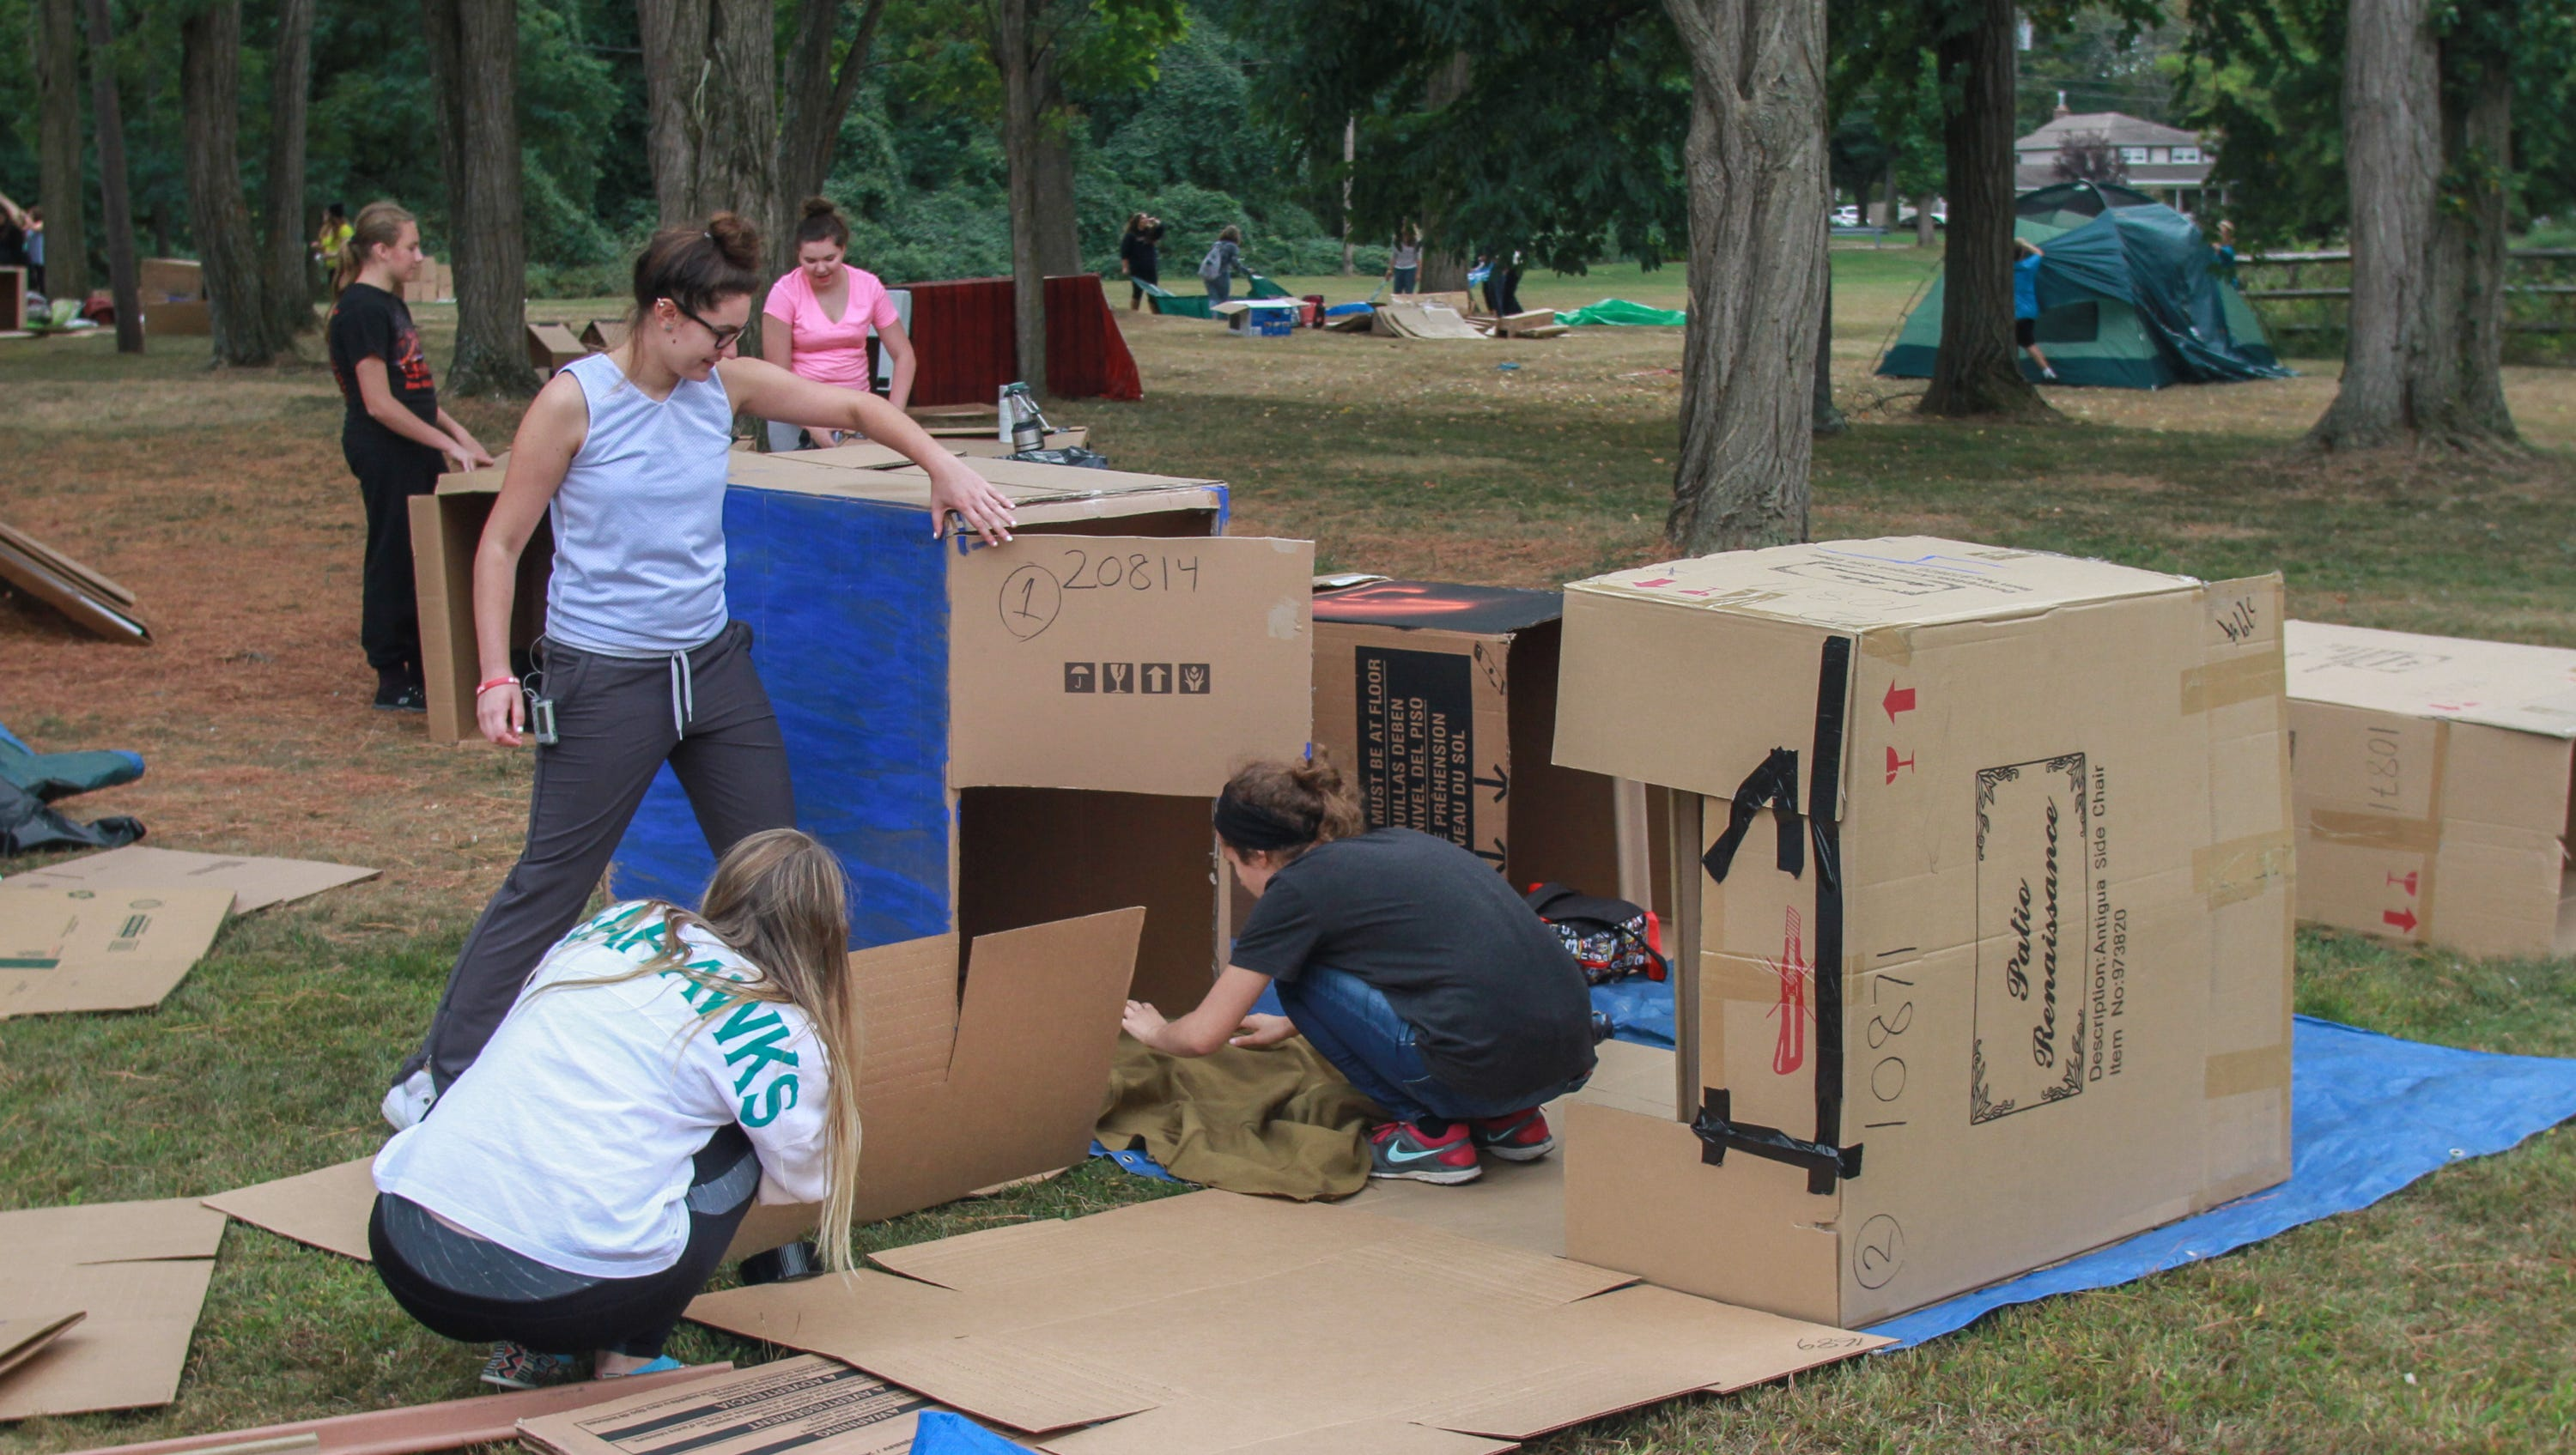box: (1565, 535, 2298, 1314), (2284, 611, 2576, 966), (1311, 571, 1577, 853)
person: (461, 214, 998, 906), (382, 833, 872, 1373), (1188, 755, 1609, 1188), (331, 210, 476, 713), (764, 195, 922, 449), (1192, 224, 1255, 313), (1121, 207, 1164, 313)
tree: (1672, 3, 1820, 540), (2347, 3, 2517, 451), (185, 27, 314, 355), (1929, 2, 2033, 409), (453, 5, 532, 397)
